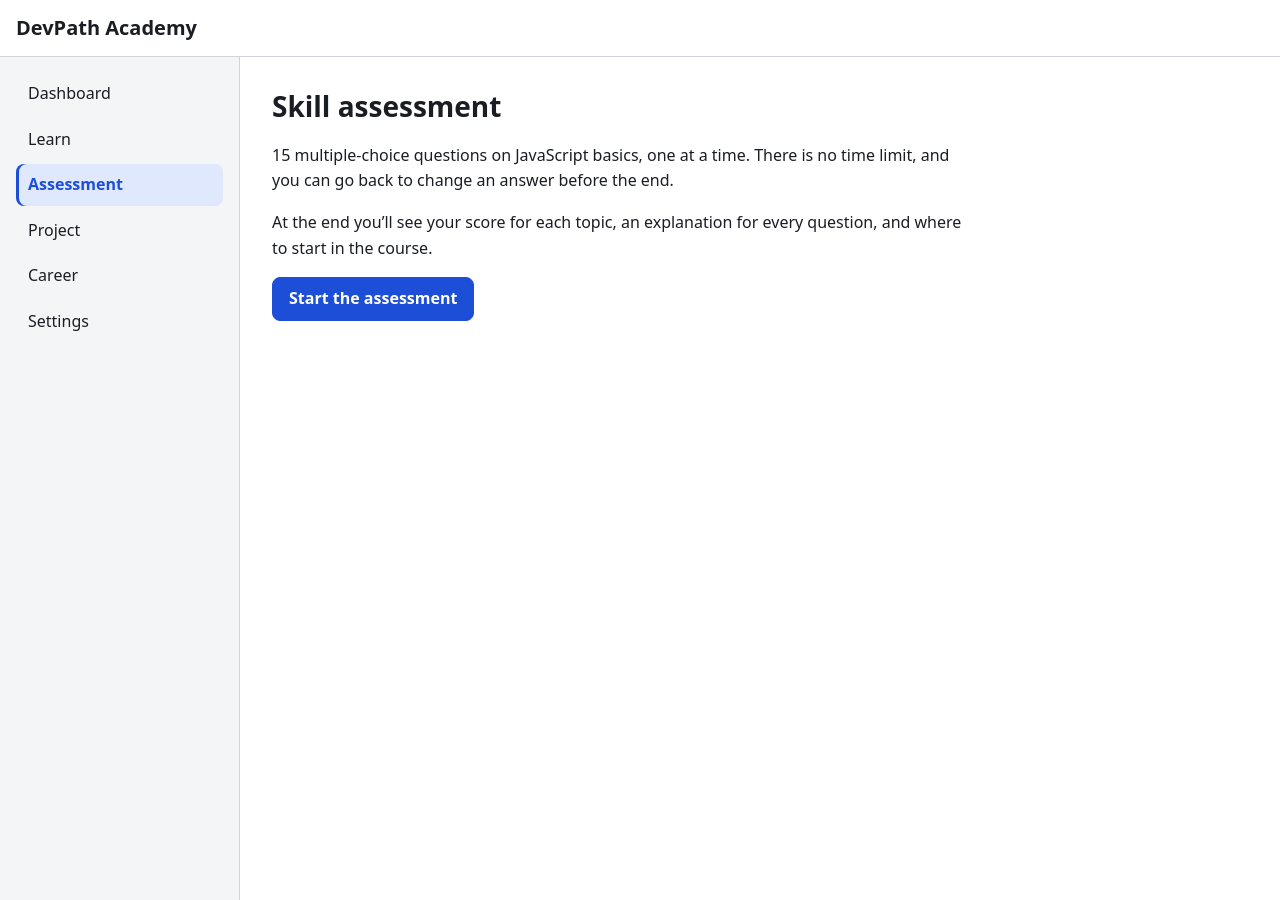
Test case: skill assessment (/assessment) › won't continue without an answer, and explains why
Click the button "Start the assessment": (373, 299) [272,277,474,321]
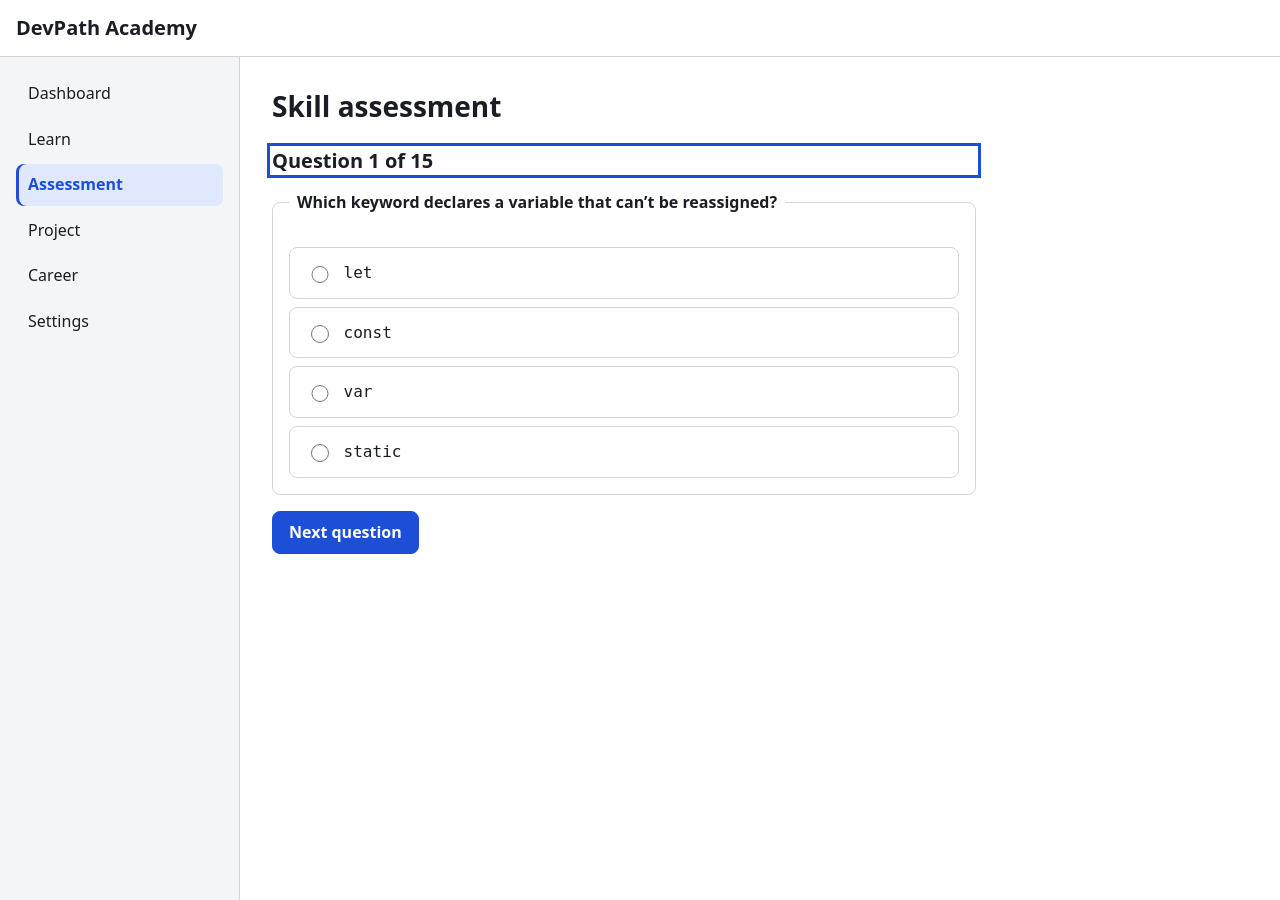
Click the button "Next question": (345, 532) [272,511,419,554]
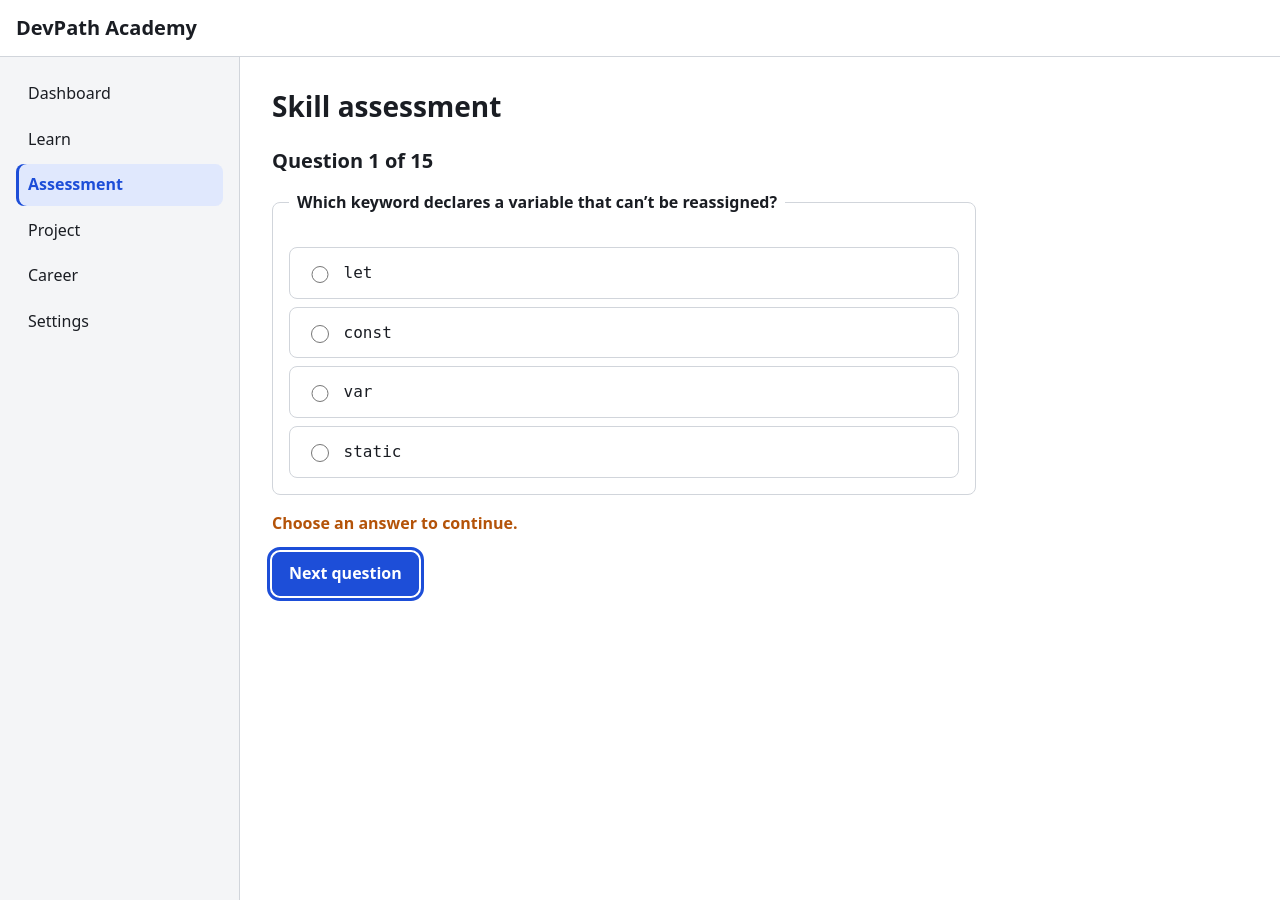
Expected: the message reads "Choose an answer to continue.", [272,512,518,534]
Click the radio button labelled "let": (320, 274) [311,266,329,283]
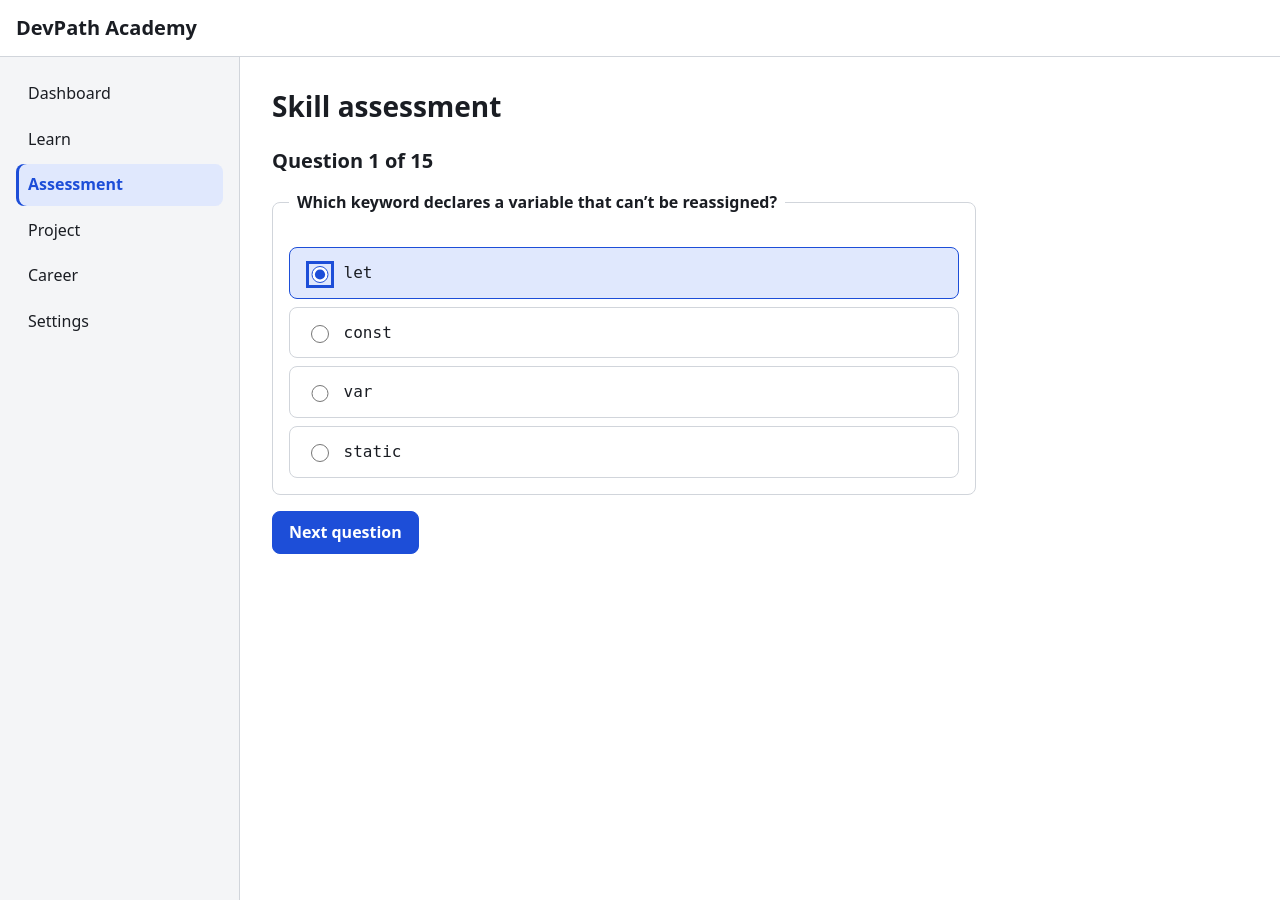
Expected: the message "Choose an answer to continue." is gone
